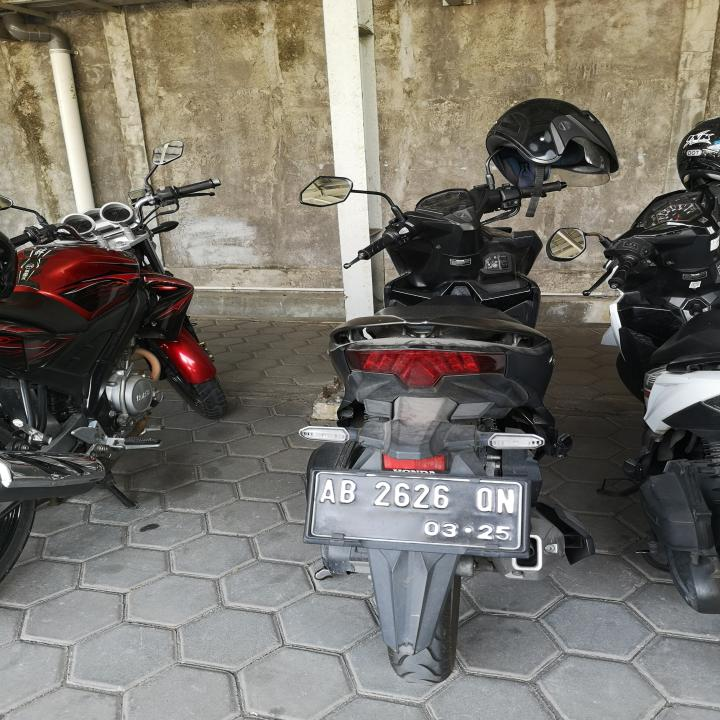plate: (303, 461, 528, 555)
